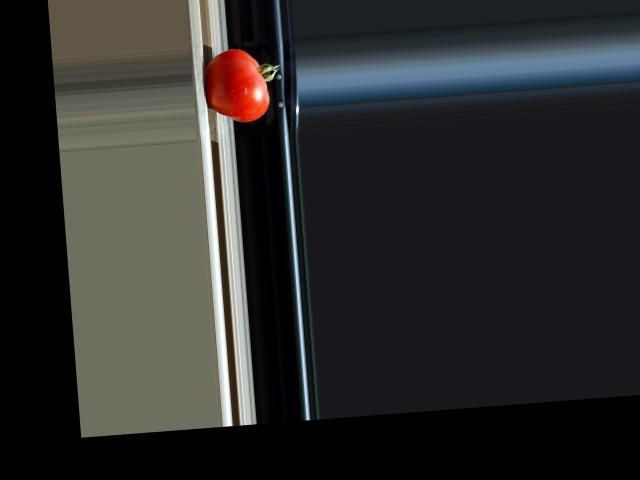tomato: (203, 45, 283, 124)
